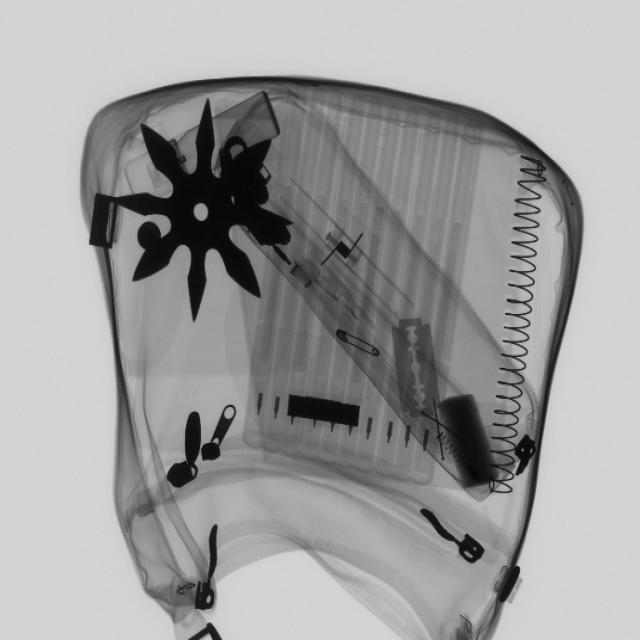BLADE: (387, 310, 445, 433)
SHURIKEN: (115, 98, 286, 326)
